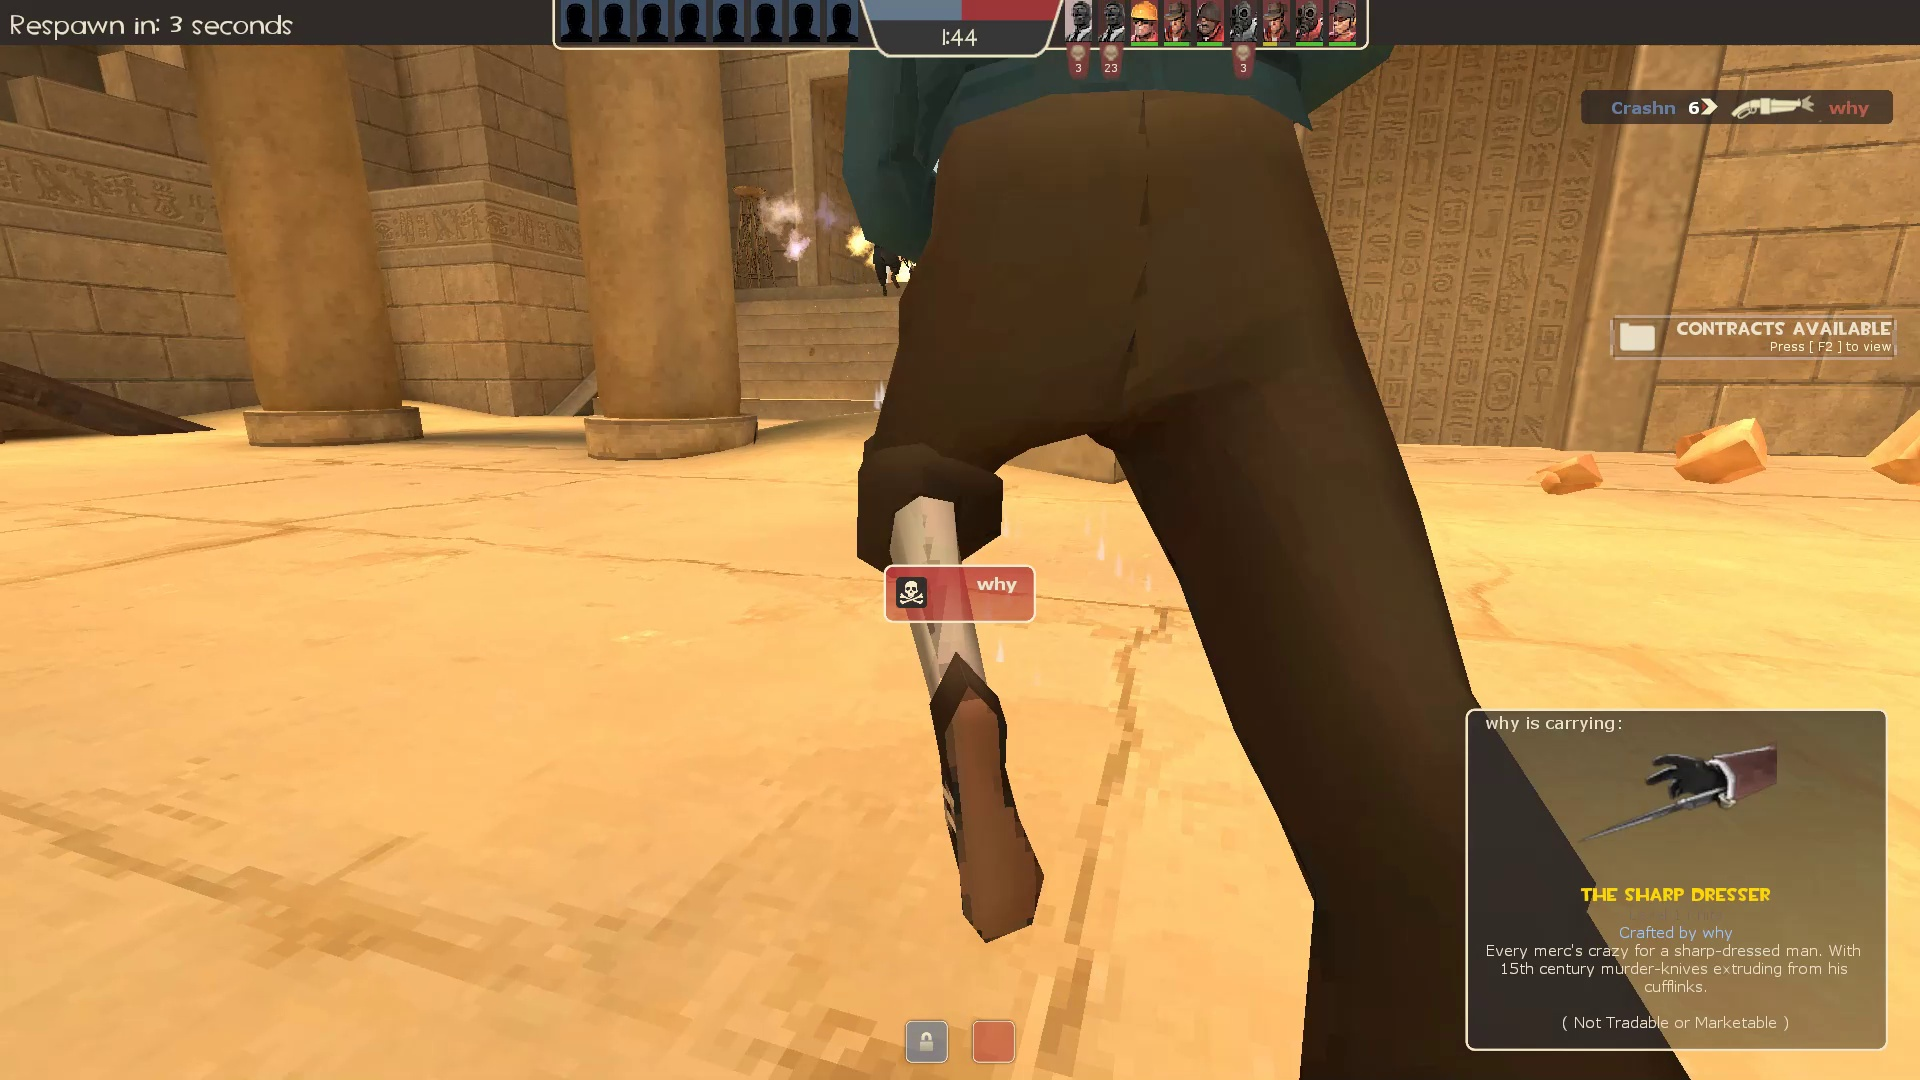blu_scout: (824, 1, 1753, 1076)
